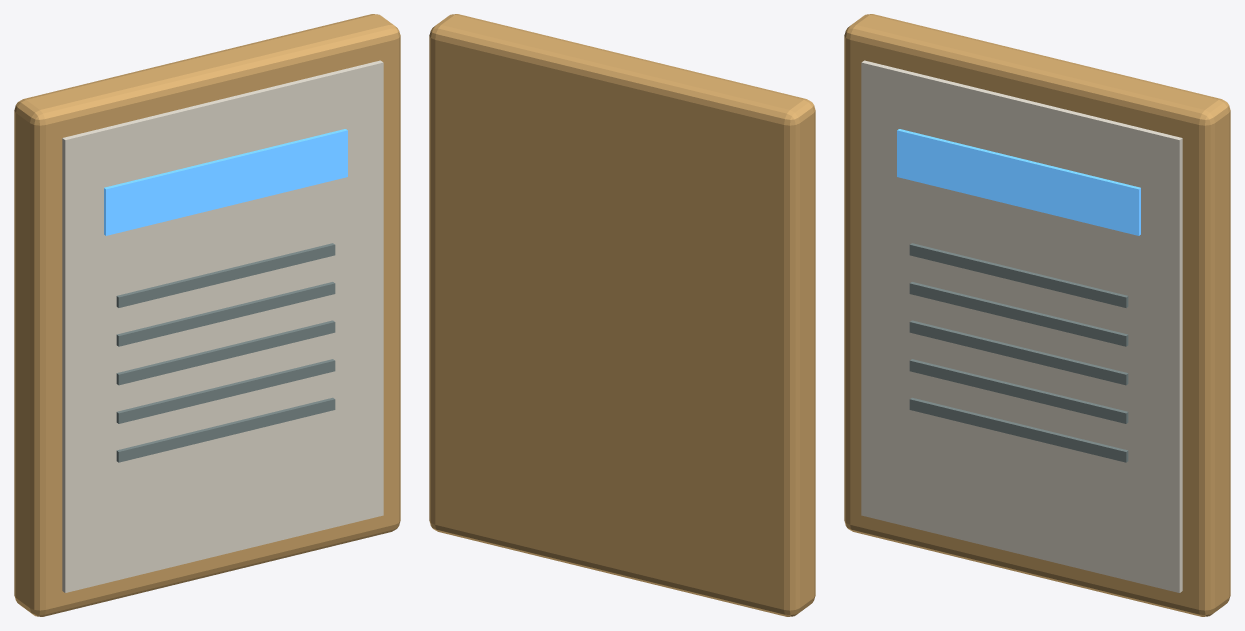
Rendered from notice_frame.glb.
3 views of the same model, side by side, from view 1: azimuth 30°, elevation 25°; view 2: azimuth 150°, elevation 25°; view 3: azimuth 330°, elevation 25° (orthographic).
Visible parts, largest first — view 1: notice_frame__white, notice_frame__oak_light, notice_frame__metal_light, notice_frame__code_blue; view 2: notice_frame__oak_light; view 3: notice_frame__white, notice_frame__oak_light, notice_frame__metal_light, notice_frame__code_blue.
Part boxes in pixels (box(x1,y1,x2,y2)): notice_frame__white: box(62, 60, 383, 592); notice_frame__oak_light: box(14, 14, 400, 616); notice_frame__metal_light: box(116, 243, 335, 462); notice_frame__code_blue: box(104, 129, 347, 235); notice_frame__oak_light: box(429, 14, 815, 616); notice_frame__white: box(861, 60, 1182, 592); notice_frame__oak_light: box(844, 14, 1230, 616); notice_frame__metal_light: box(909, 243, 1128, 462); notice_frame__code_blue: box(897, 129, 1140, 235).
Size of the model in its own units: 0.29 by 0.38 by 0.044.
